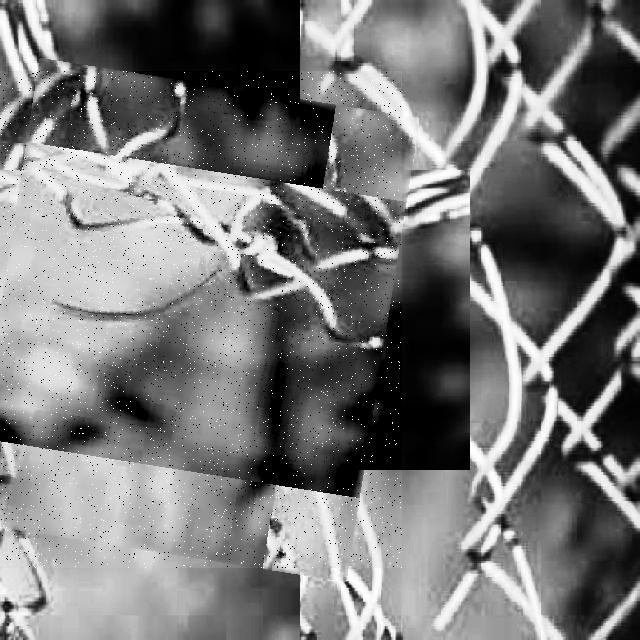anomaly-fence: (0, 71, 402, 568)
